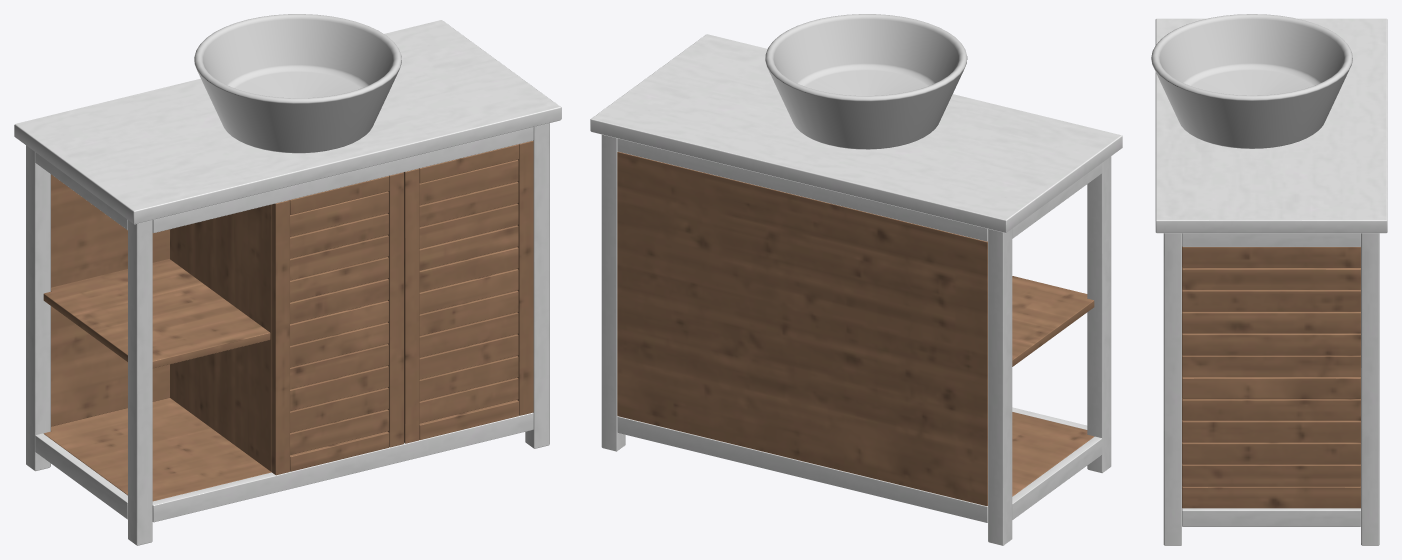
The model's file is sink1.glb.
The picture shows the model from 3 angles, left to right: view 1: azimuth 30°, elevation 25°; view 2: azimuth 150°, elevation 25°; view 3: azimuth 270°, elevation 25°; orthographic projection. The views are drawn at different scales.
Parts seen in each view (by area): view 1: SM_Storage02; view 2: SM_Storage02; view 3: SM_Storage02.
Part boxes in pixels (box(x1,y1,x2,y2)): SM_Storage02: box(14, 14, 561, 545); SM_Storage02: box(590, 14, 1122, 545); SM_Storage02: box(1151, 14, 1387, 545).
Size of the model in its own units: 1.17 by 1.06 by 0.5773.
4 materials, 2 textured.
